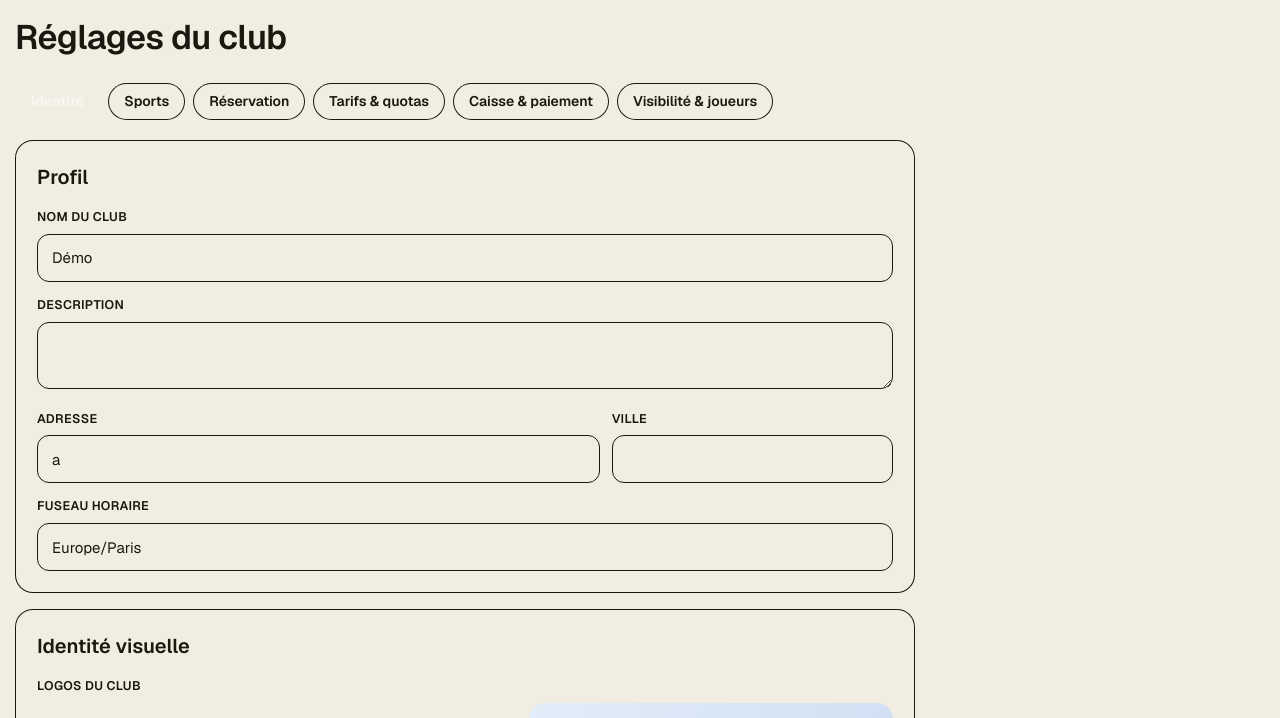
Test: AdminSettingsPage (onglets + SaveBar) › renders the Sports tab content when selected
The image size is (1280, 718).
Expected: the heading "Profil" is shown, 37,164 -> 88,190
Step 1. Click the button "Sports" → {"x": 147, "y": 102}, box 108,83 -> 185,120
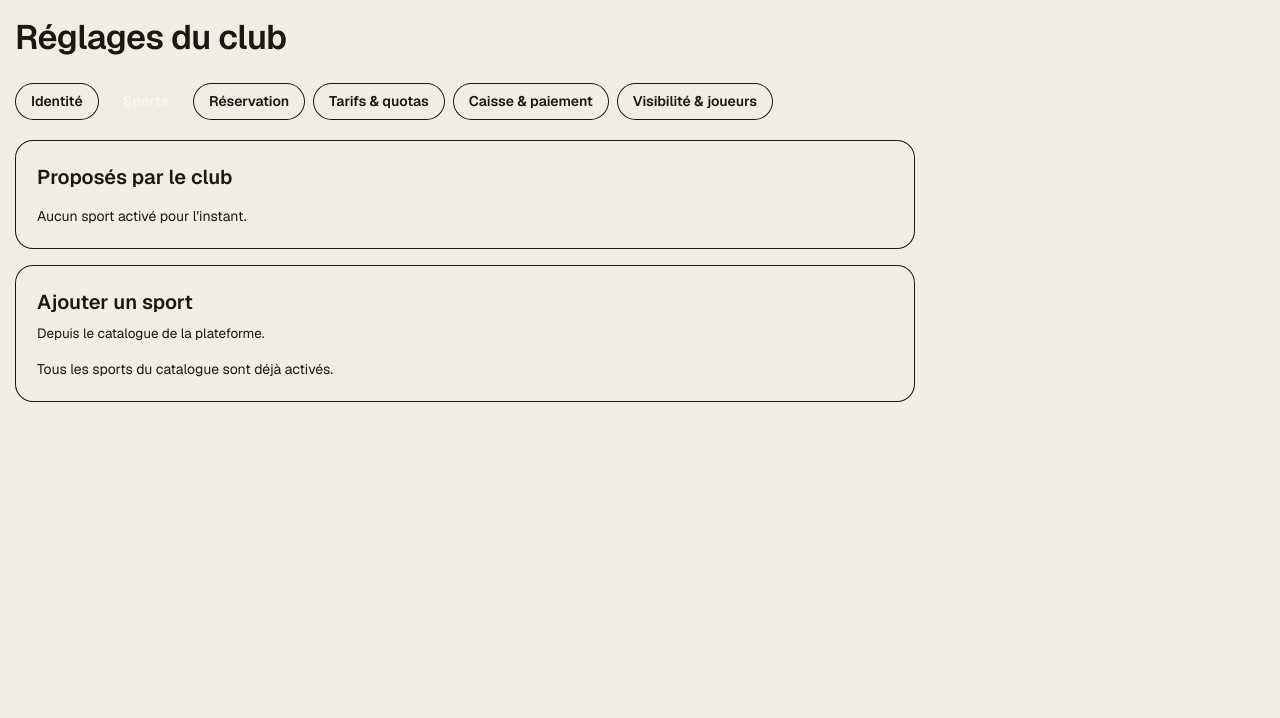
Now the heading "Proposés par le club" is shown, box 37,164 -> 232,190
